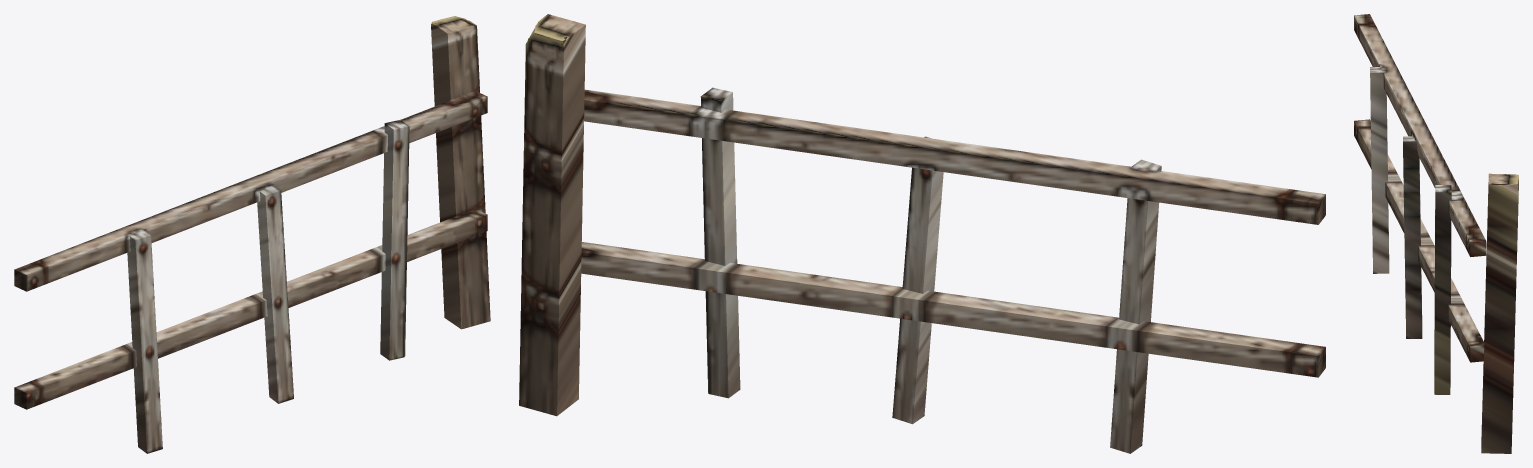
Rendered from fence_16.glb.
3 views of the same model, side by side, from view 1: azimuth 30°, elevation 25°; view 2: azimuth 150°, elevation 25°; view 3: azimuth 270°, elevation 25° (orthographic). The views are drawn at different scales.
Parts seen in each view (by area): view 1: fence_16_game; view 2: fence_16_game; view 3: fence_16_game.
Part boxes in pixels (x1=…): fence_16_game: x1=14, y1=16, x2=490, y2=453; fence_16_game: x1=519, y1=14, x2=1325, y2=453; fence_16_game: x1=1354, y1=14, x2=1518, y2=453.
Size of the model in its own units: 2.39 by 1.26 by 0.7091.
1 material, 1 textured.
